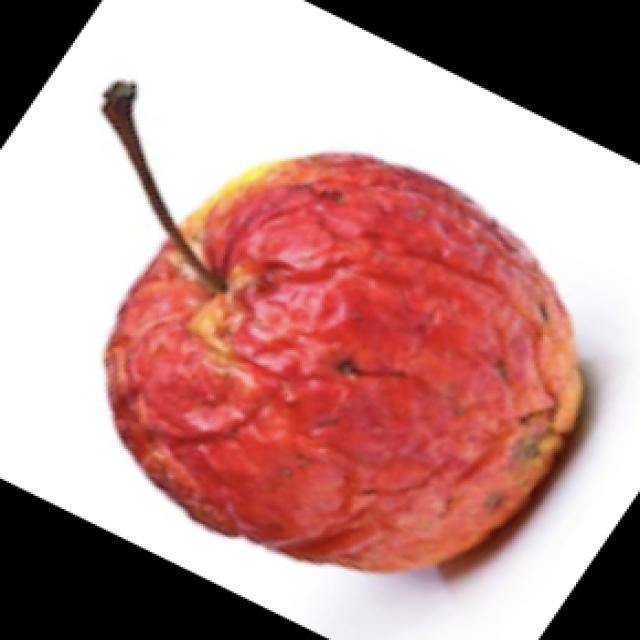Rotten: (123, 160, 592, 600)
